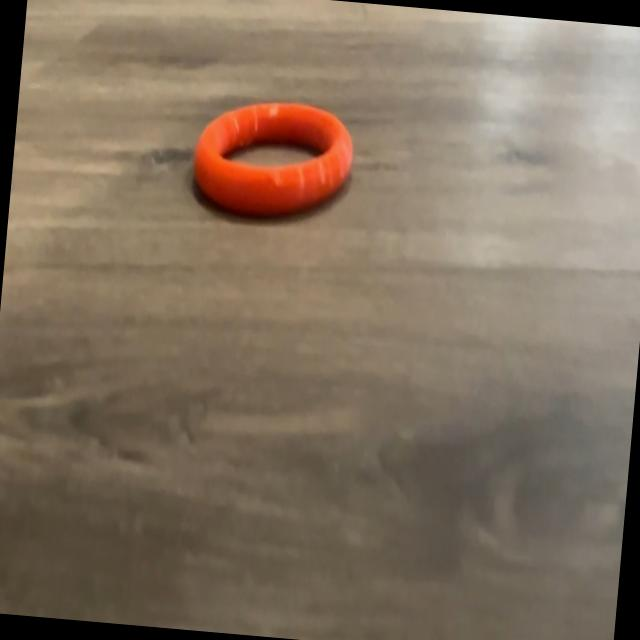note: (187, 89, 358, 222)
